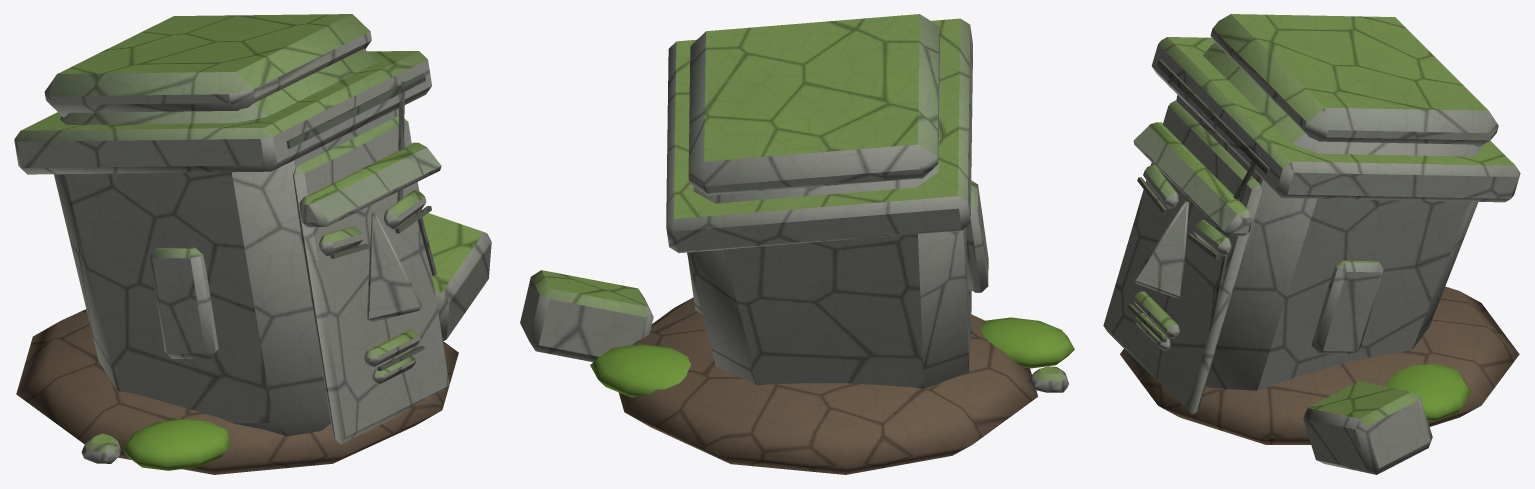
File: statue_head.glb
3 views of the same model, side by side, from view 1: azimuth 30°, elevation 25°; view 2: azimuth 150°, elevation 25°; view 3: azimuth 270°, elevation 25° (orthographic). The views are drawn at different scales.
Visible parts, largest first — view 1: statue_head; view 2: statue_head; view 3: statue_head.
Boxes of the visible parts, x1=… form: statue_head: x1=14, y1=14, x2=491, y2=474; statue_head: x1=520, y1=14, x2=1074, y2=474; statue_head: x1=1103, y1=14, x2=1520, y2=474.
Bounding box in the file's own units: 3.67 × 3 × 3.03.
Materials: 4 (4 with a texture image).
